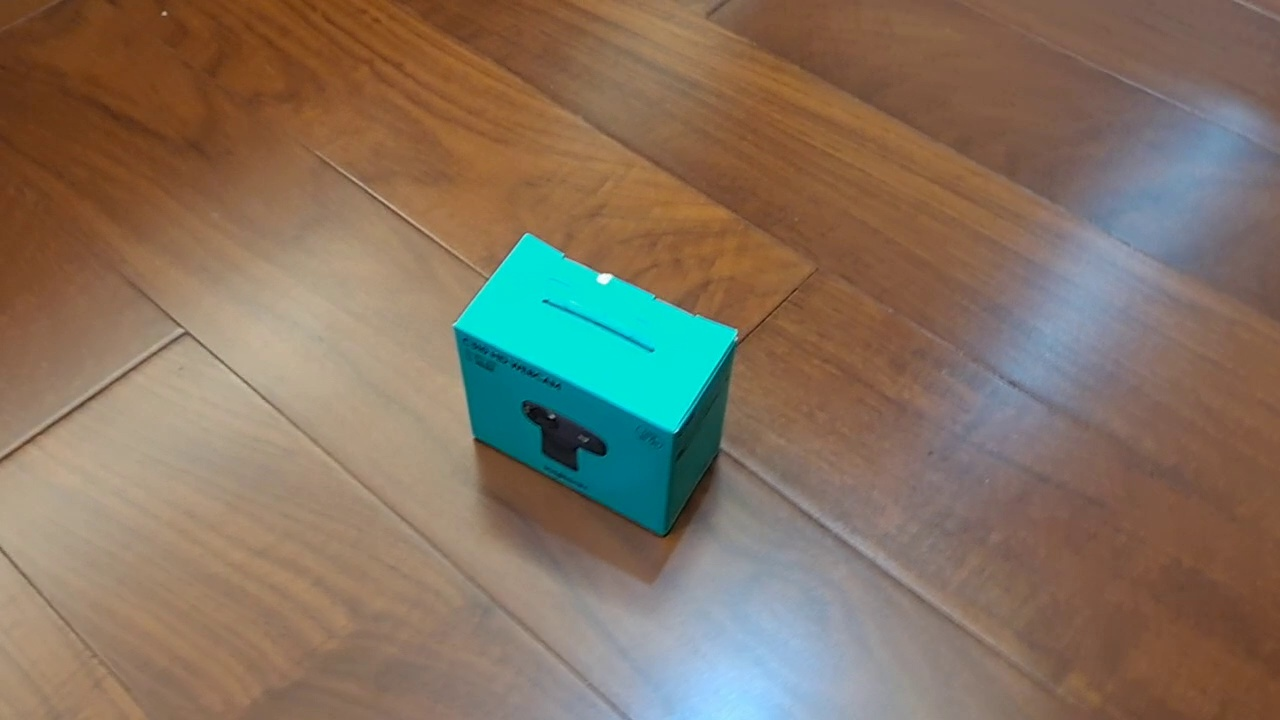webcam: (450, 231, 740, 538)
